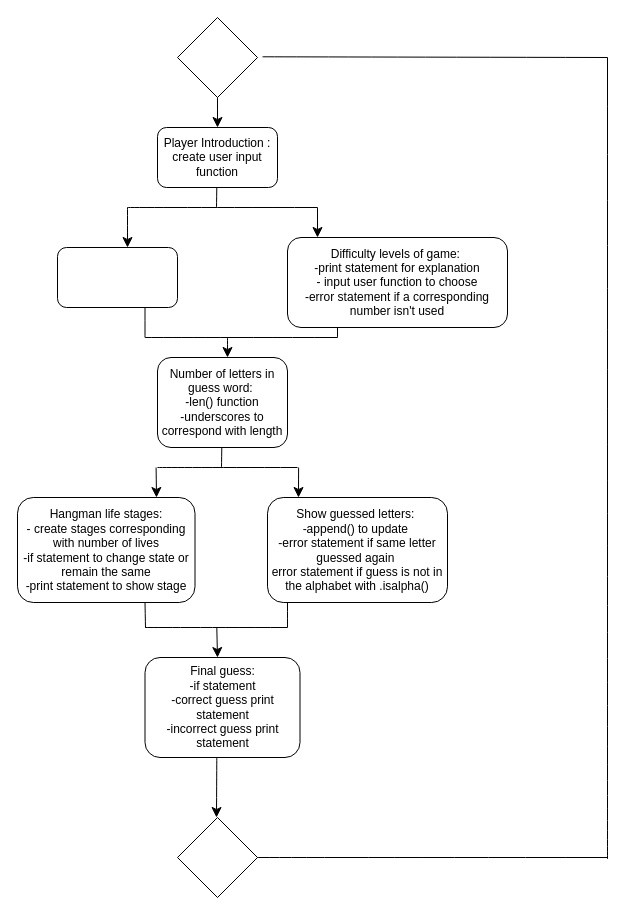
Image size: 626x915. Some labels were removed from this diagram. Each missing label, with the centre of its shape:
END: the point at 217,857
START: the point at 217,57
Word bank: Create a dictionary of words & random choice: the point at 117,277
